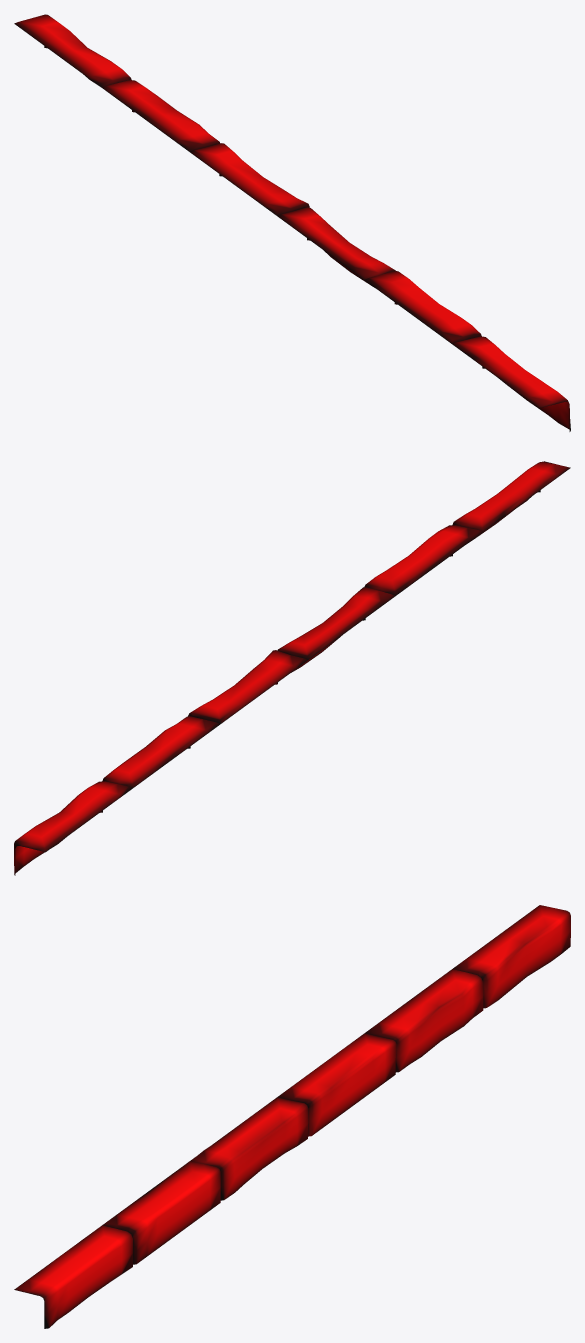
Rendered from curb_6.fbx.
The picture shows the model from 3 angles, top to bottom: view 1: azimuth 30°, elevation 25°; view 2: azimuth 150°, elevation 25°; view 3: azimuth 330°, elevation 25°; orthographic projection.
Visible parts, largest first — view 1: curb_6; view 2: curb_6; view 3: curb_6.
Part boxes in pixels (x1=…): curb_6: x1=14, y1=14, x2=570, y2=431; curb_6: x1=14, y1=461, x2=570, y2=875; curb_6: x1=14, y1=905, x2=570, y2=1328.
Bounding box in the file's own units: 0.2313 × 0.2239 × 6.
